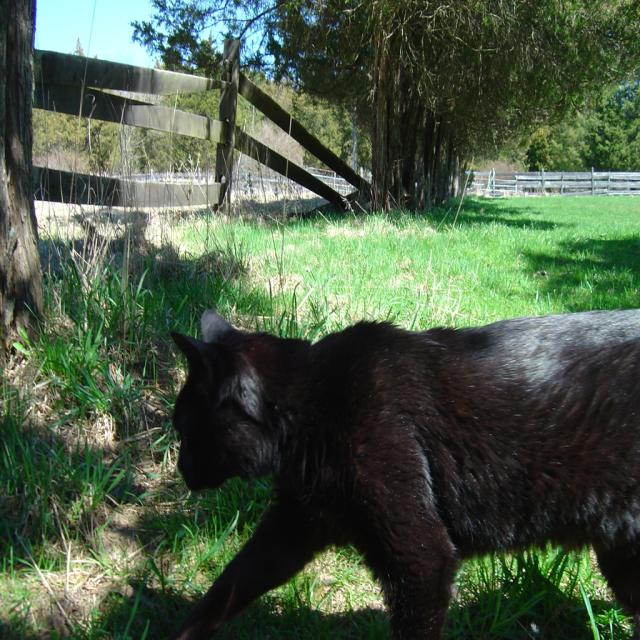Cat: (168, 305, 638, 638)
